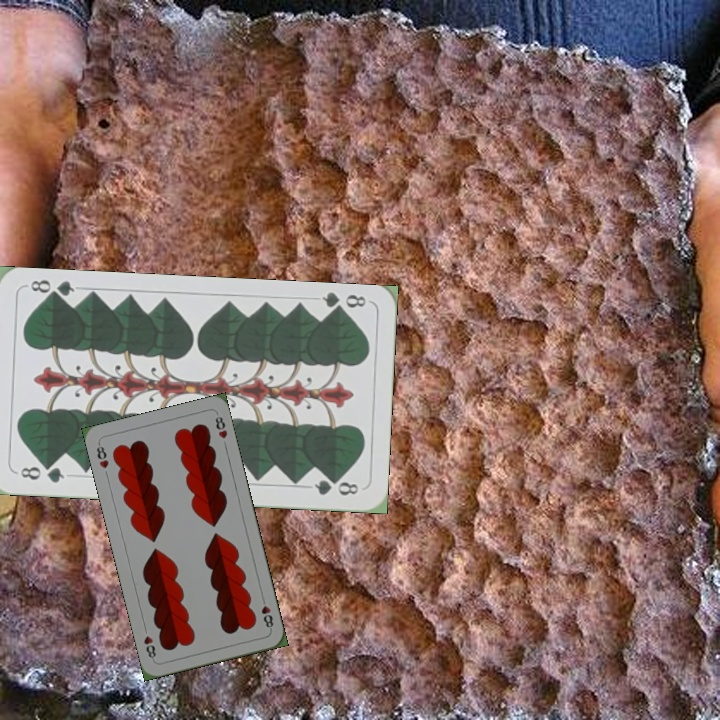G8: (318, 289, 368, 317), (16, 461, 67, 486)
H8: (257, 593, 276, 633), (92, 439, 111, 471)
